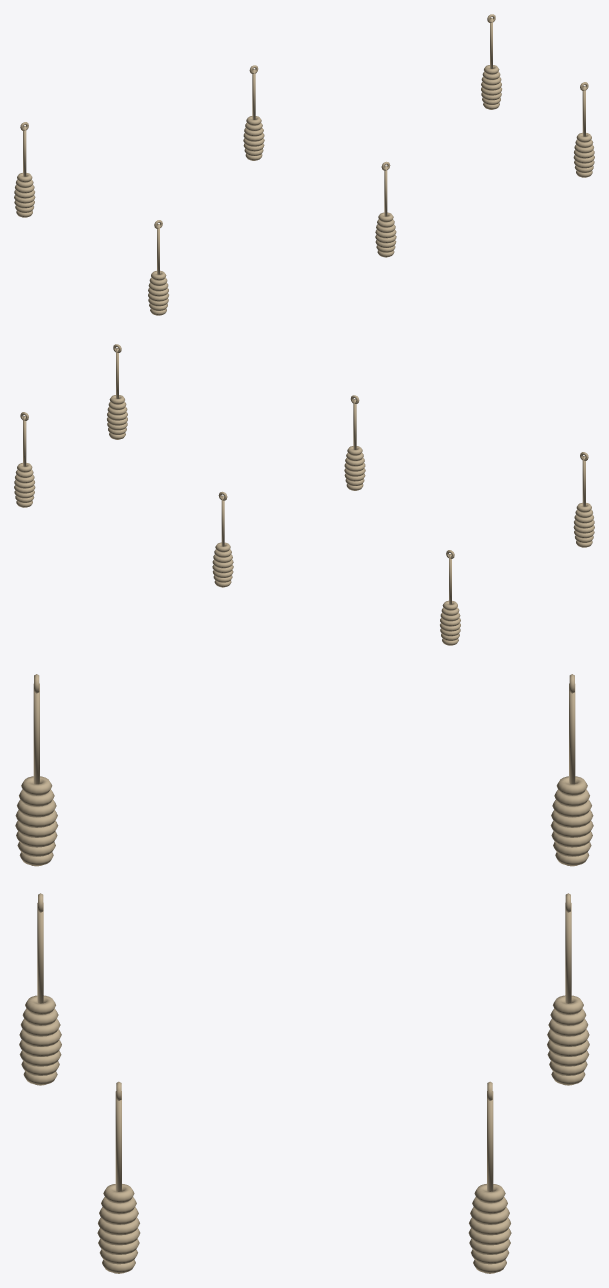
Rendered from fenders.glb.
The picture shows the model from 3 angles, top to bottom: view 1: azimuth 30°, elevation 25°; view 2: azimuth 150°, elevation 25°; view 3: azimuth 270°, elevation 25°; orthographic projection. The views are drawn at different scales.
Visible parts, largest first — view 1: Fenders; view 2: Fenders; view 3: Fenders.
Boxes of the visible parts, left/top/right/bottom form: Fenders: left=14, top=14, right=594, bottom=315; Fenders: left=14, top=344, right=594, bottom=645; Fenders: left=15, top=674, right=593, bottom=1273.
Size of the model in its own units: 4.48 by 0.9953 by 2.41.
